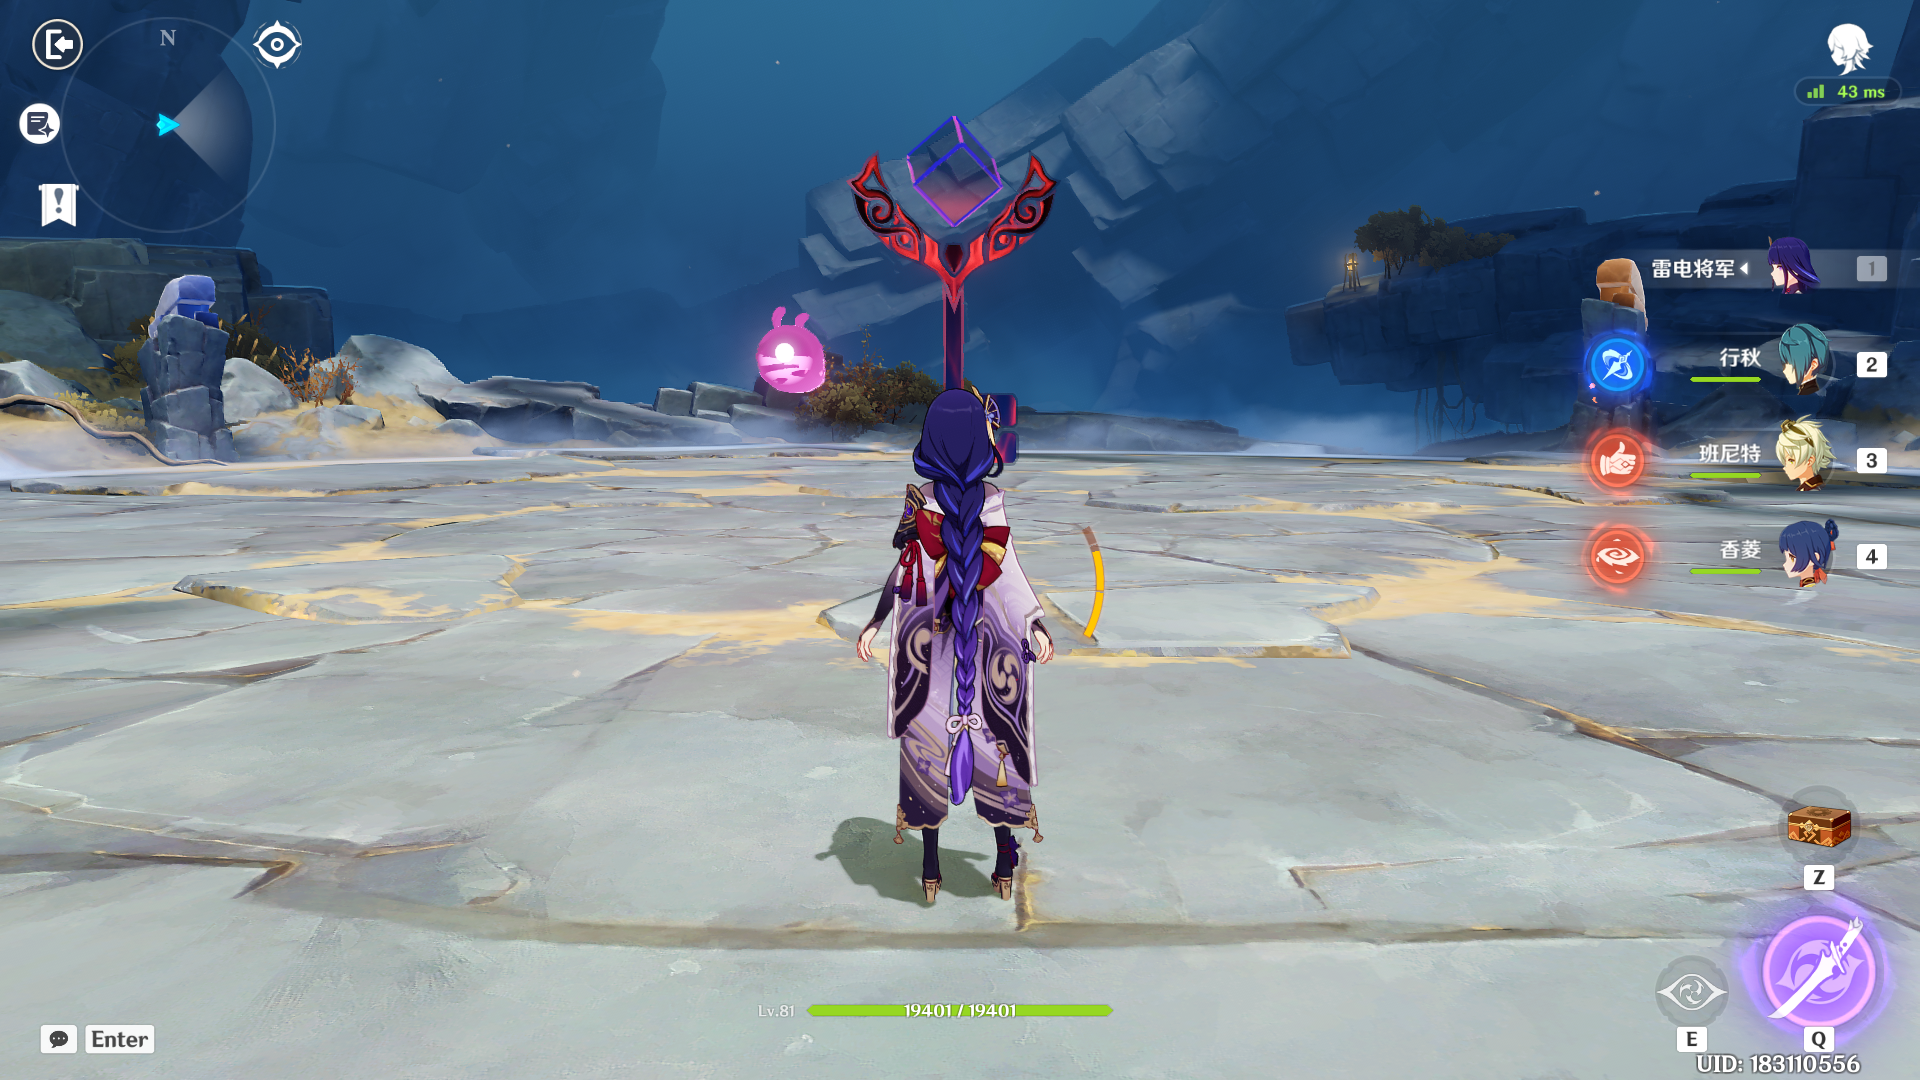character: (833, 314, 1116, 944)
